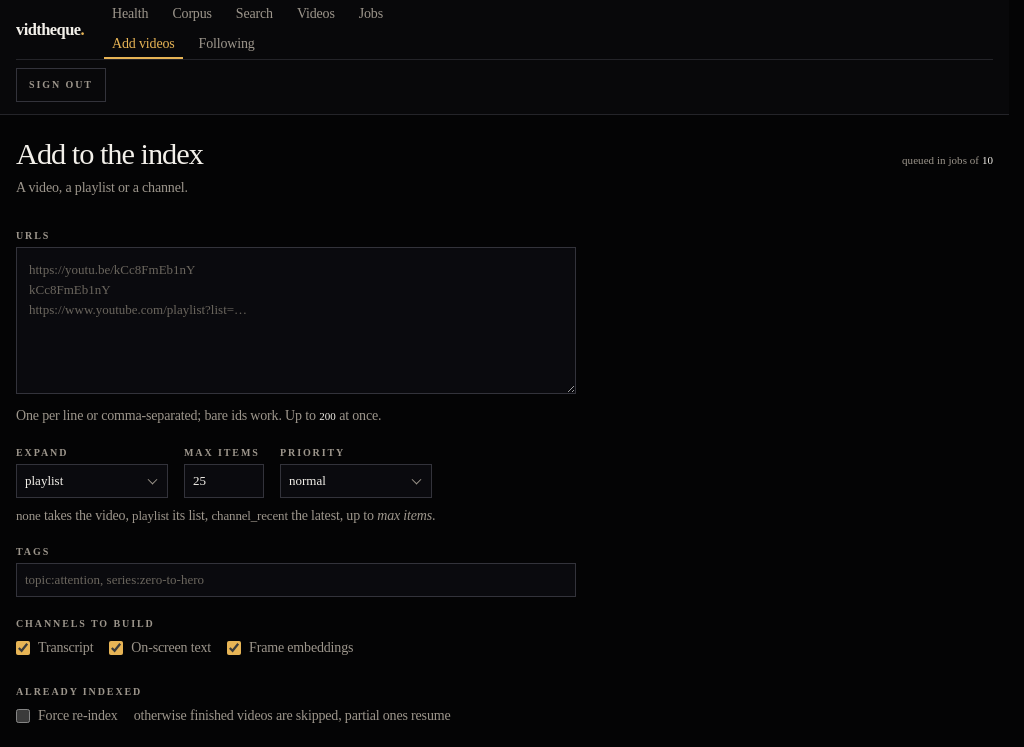
Test case: the index form › the receipt › leaves the controls alone when the outcome carries no echo
Expected: the text box labelled "URLs" is shown, [16,247,576,394]
Select "high" in the dropdown labelled "Priority". click: (356, 481)
box: [280,464,432,498]
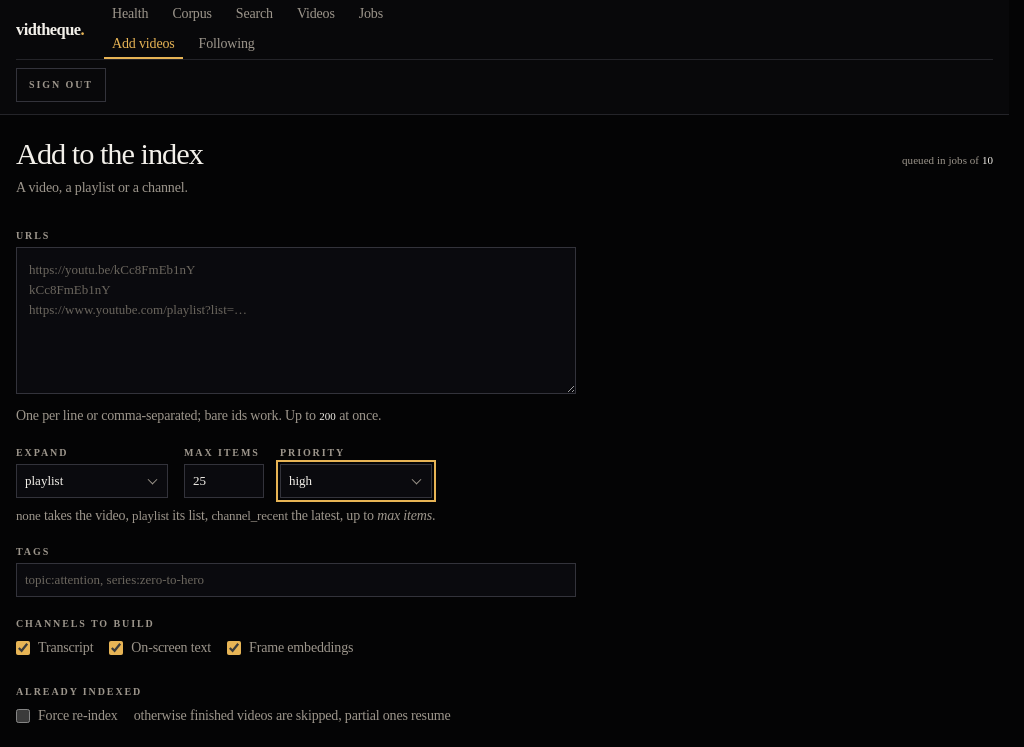
Type "https://youtu.be/solo0000002" into the text box labelled "URLs". click: (296, 321)
box: [16,247,576,394]
(page scrolled)
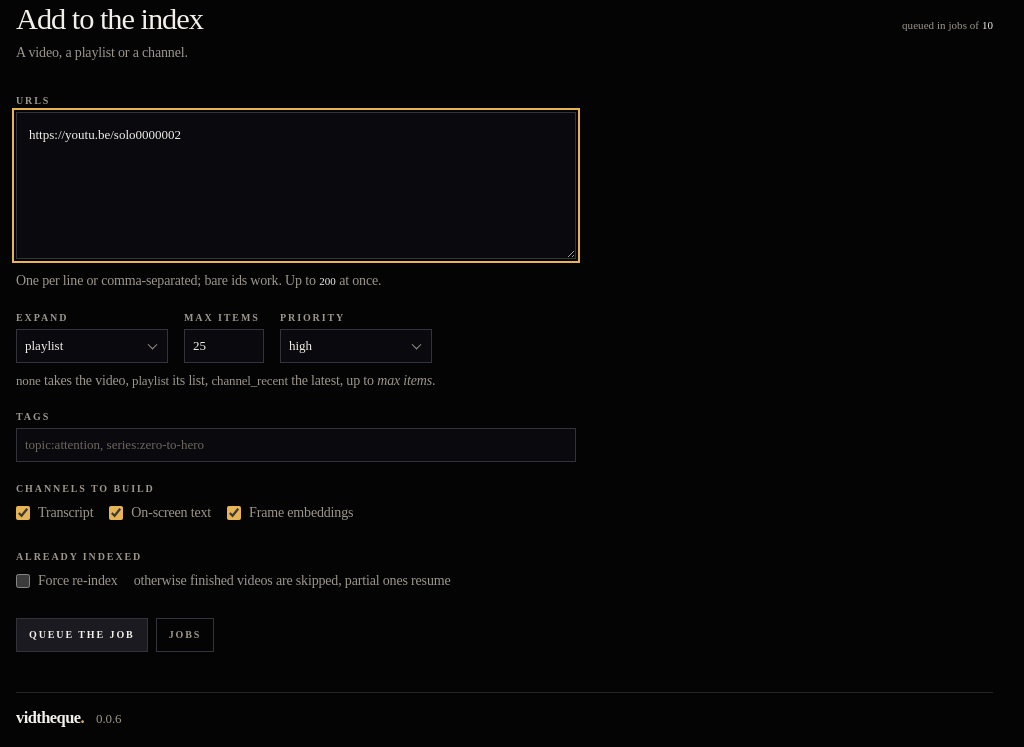
Click the button "Queue the job". click: (82, 635)
box: [16,618,148,652]
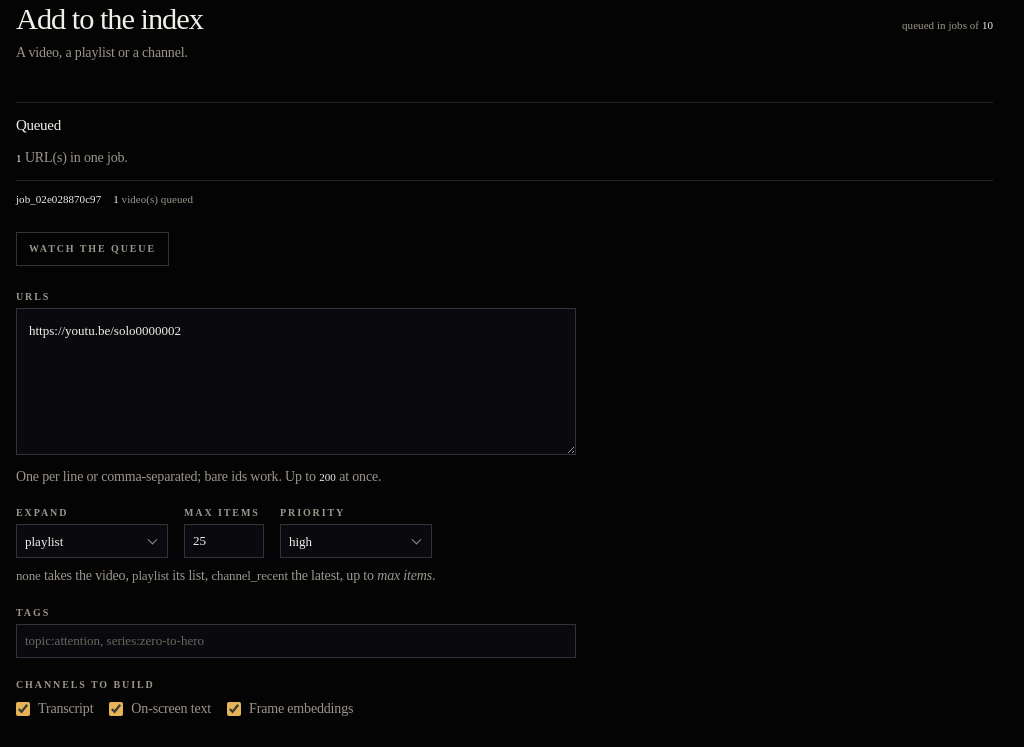
Now the message "Queued 1 URL(s) in one job. job_02e028870c97 1 video(s) queued Watch the queue" is shown, box [16,102,993,266]
